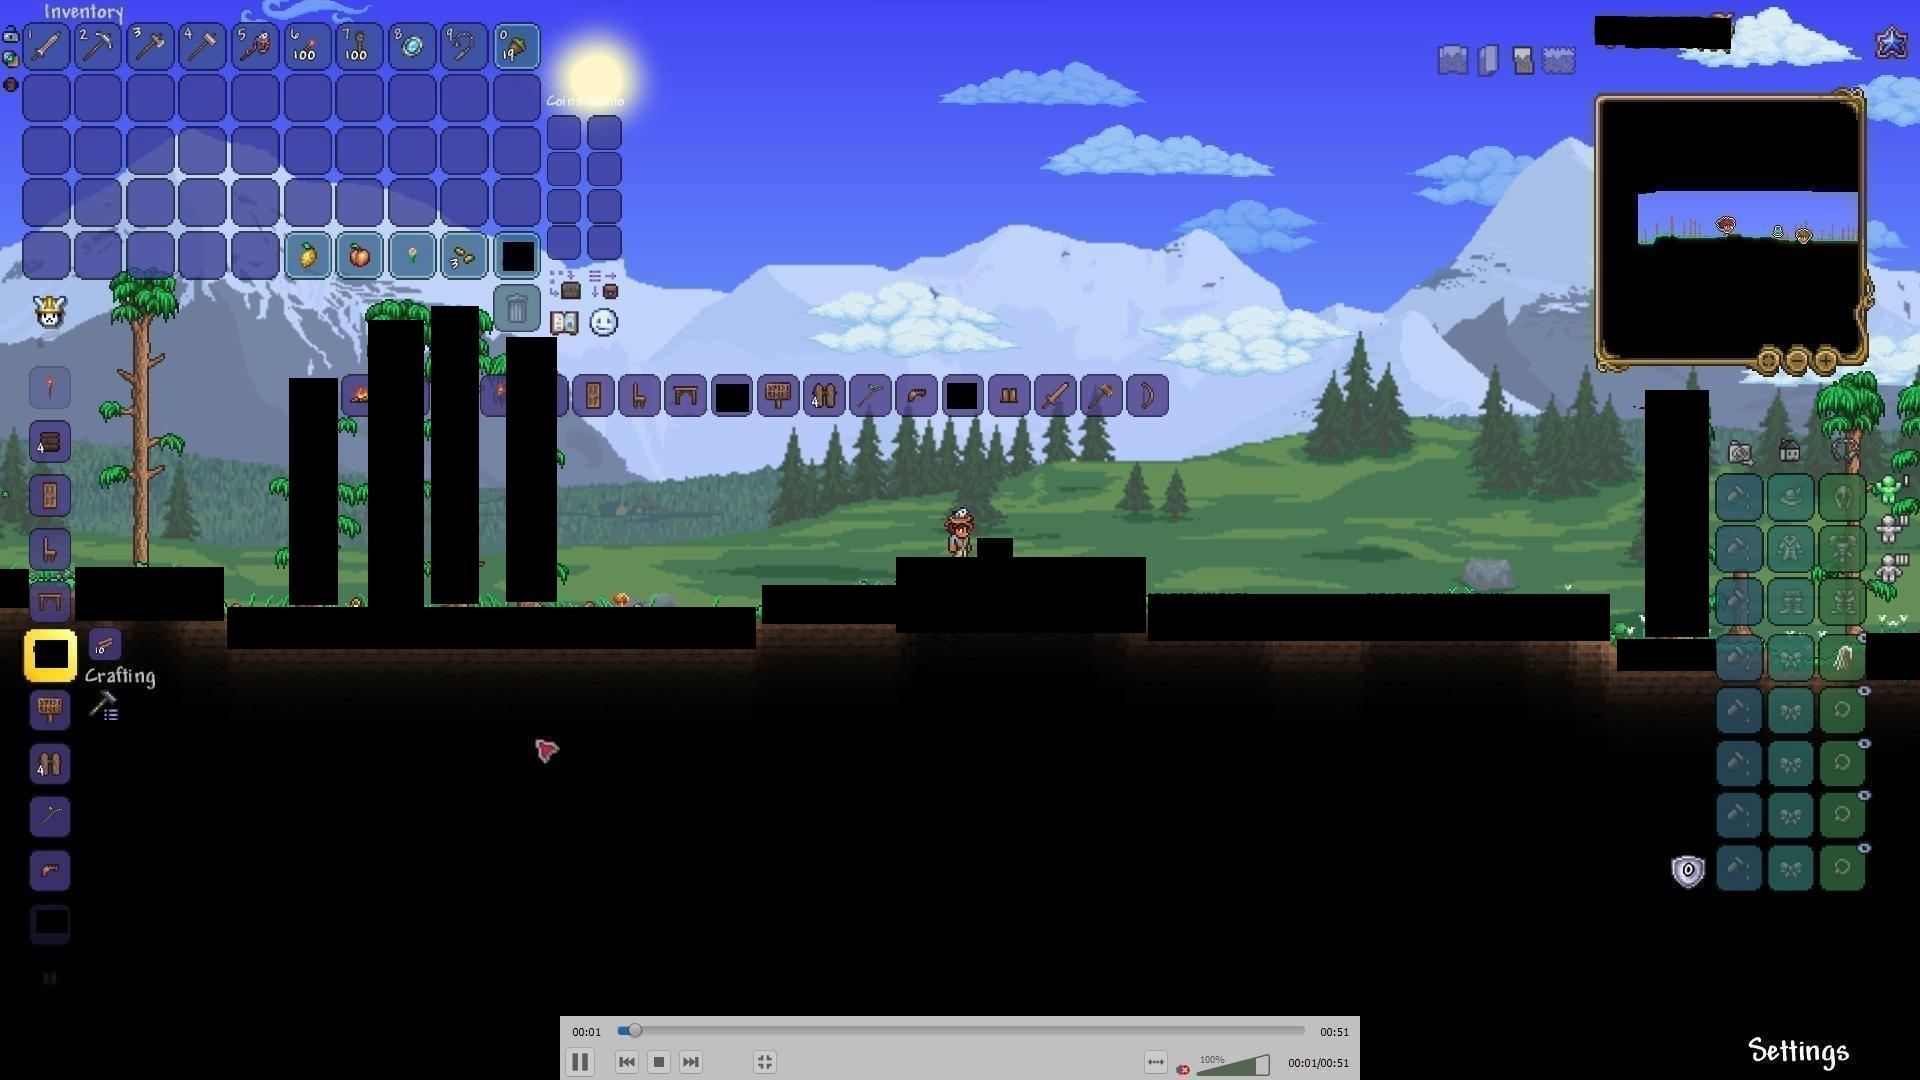helmet: (36, 857, 71, 887), (906, 385, 928, 406)
legs: (1000, 385, 1021, 404)
tree: (112, 282, 174, 563)
wood: (92, 628, 123, 655)
